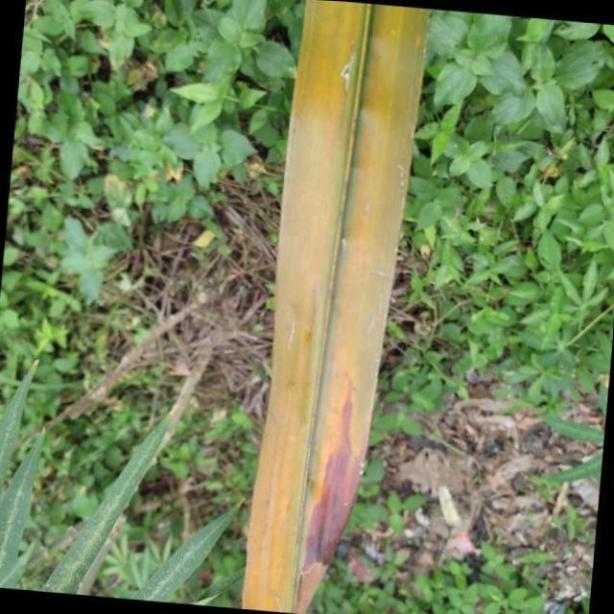Megnesium: (241, 0, 432, 614)
